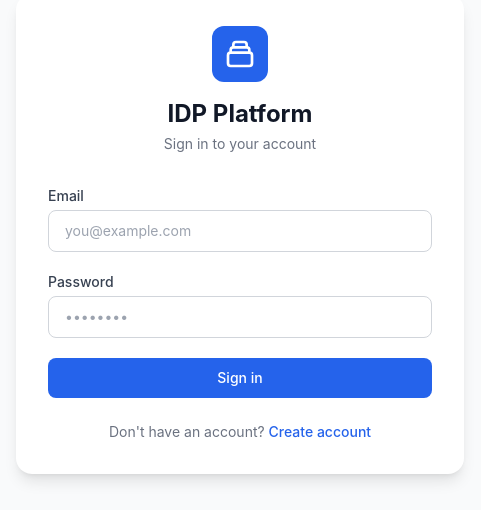
LoginPage › shows validation error when password is empty
The width and height of the screenshot is (481, 510).
In the field with placeholder "you@example.com": {"x": 240, "y": 231} x1=48 y1=210 x2=432 y2=252, type "a@b.com"
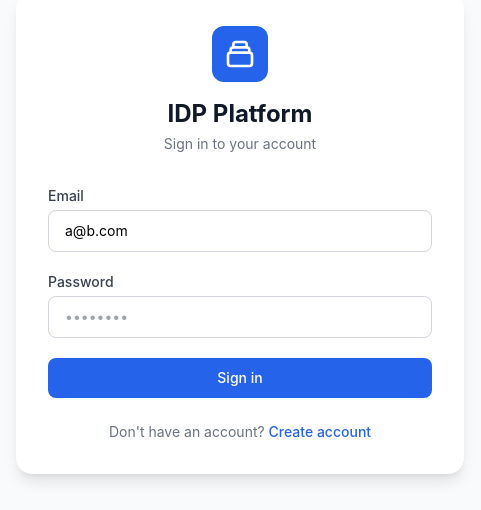
Click the button "Sign in": {"x": 240, "y": 378} x1=48 y1=358 x2=432 y2=398
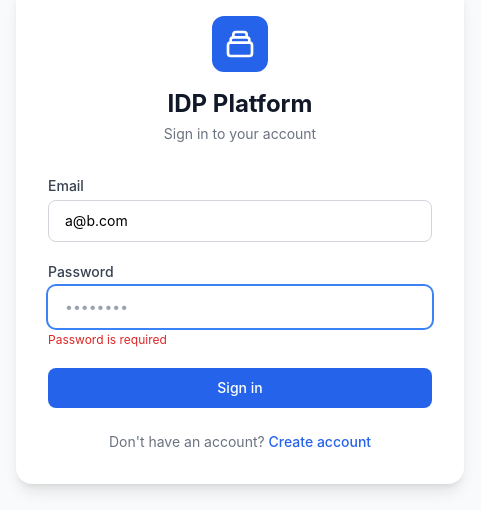
Now the text "Password is required" is shown, box x1=48 y1=332 x2=167 y2=347
